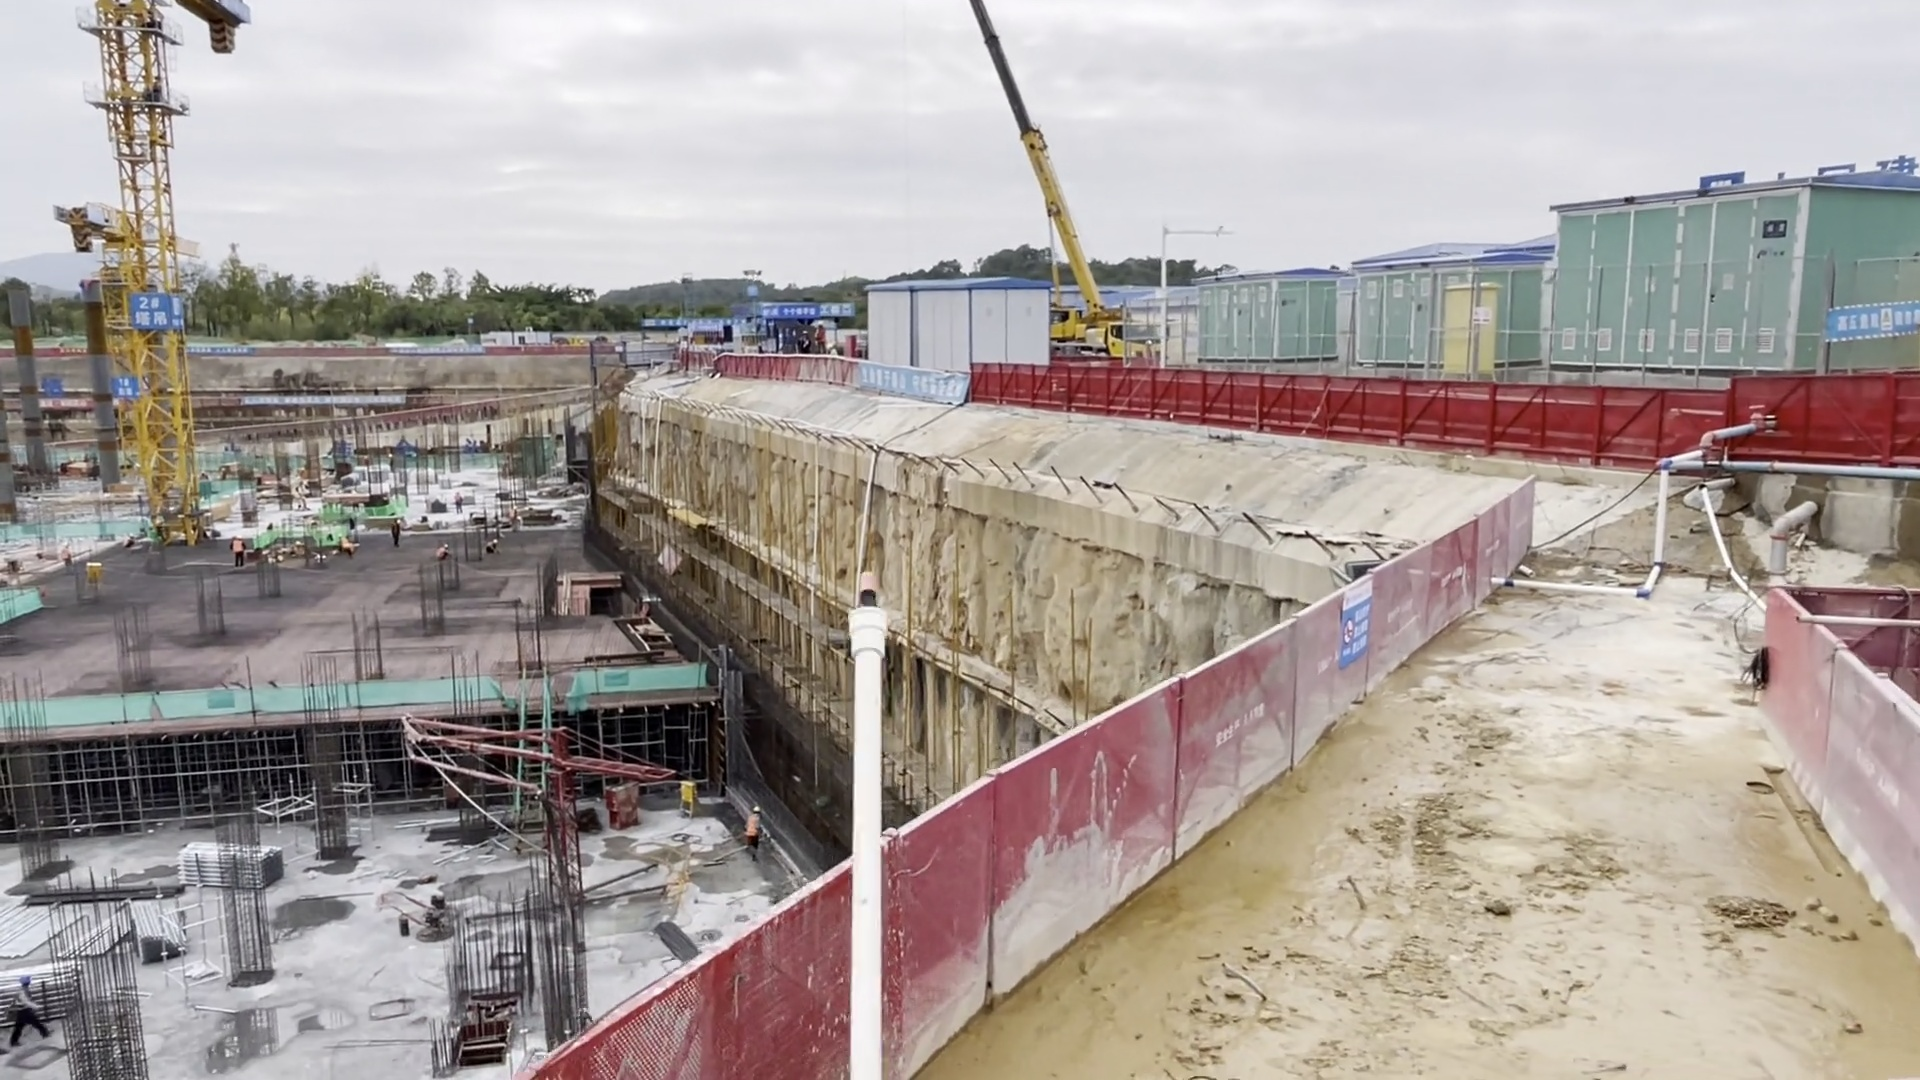slogan: (700, 347, 996, 418)
